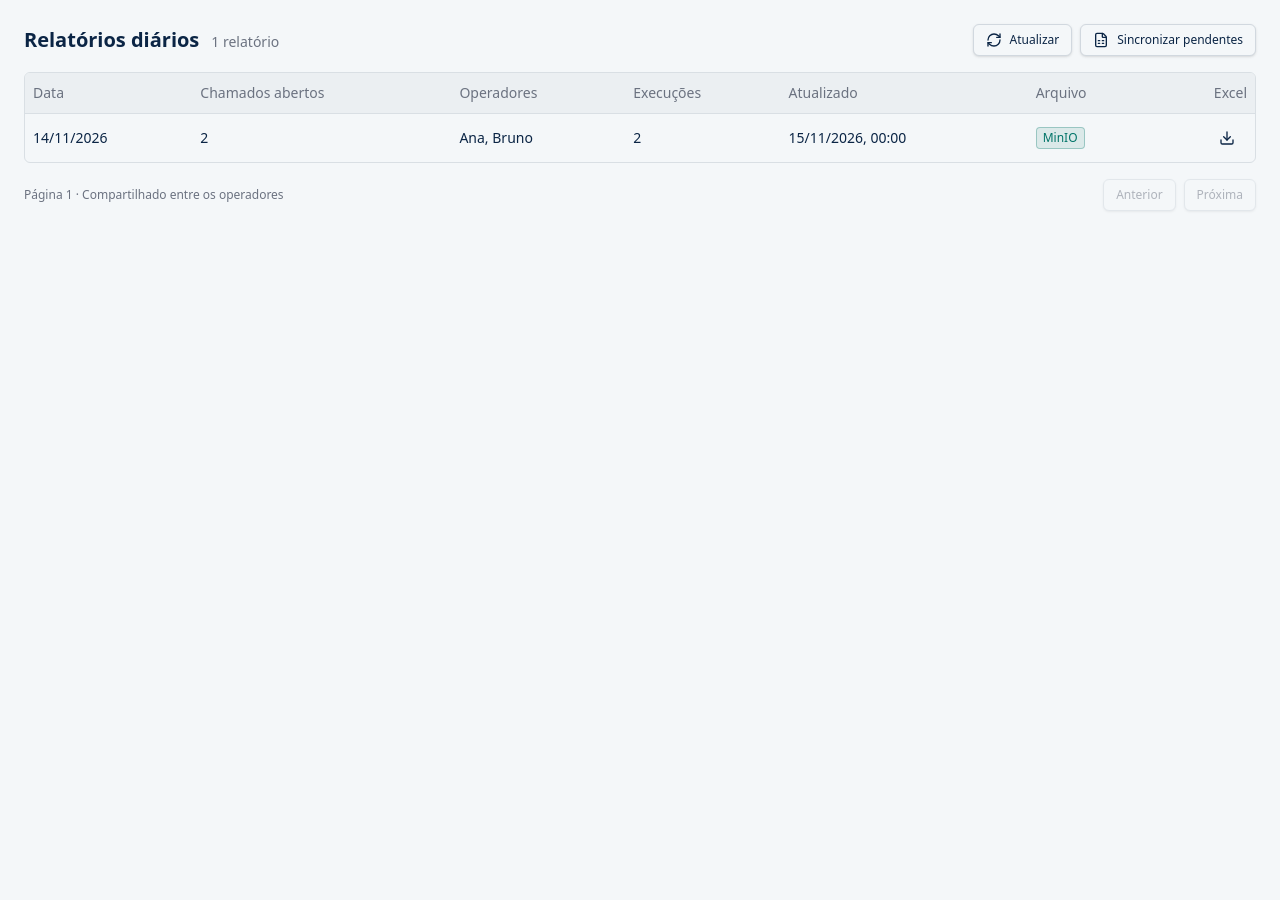
Test: Daily execution reports › searches routes without accents, clears an empty search and opens the correct ticket
Later steps or results of the test are not shown.
Click the text "14/11/2026".
click(109, 137)  # box [25, 113, 192, 162]
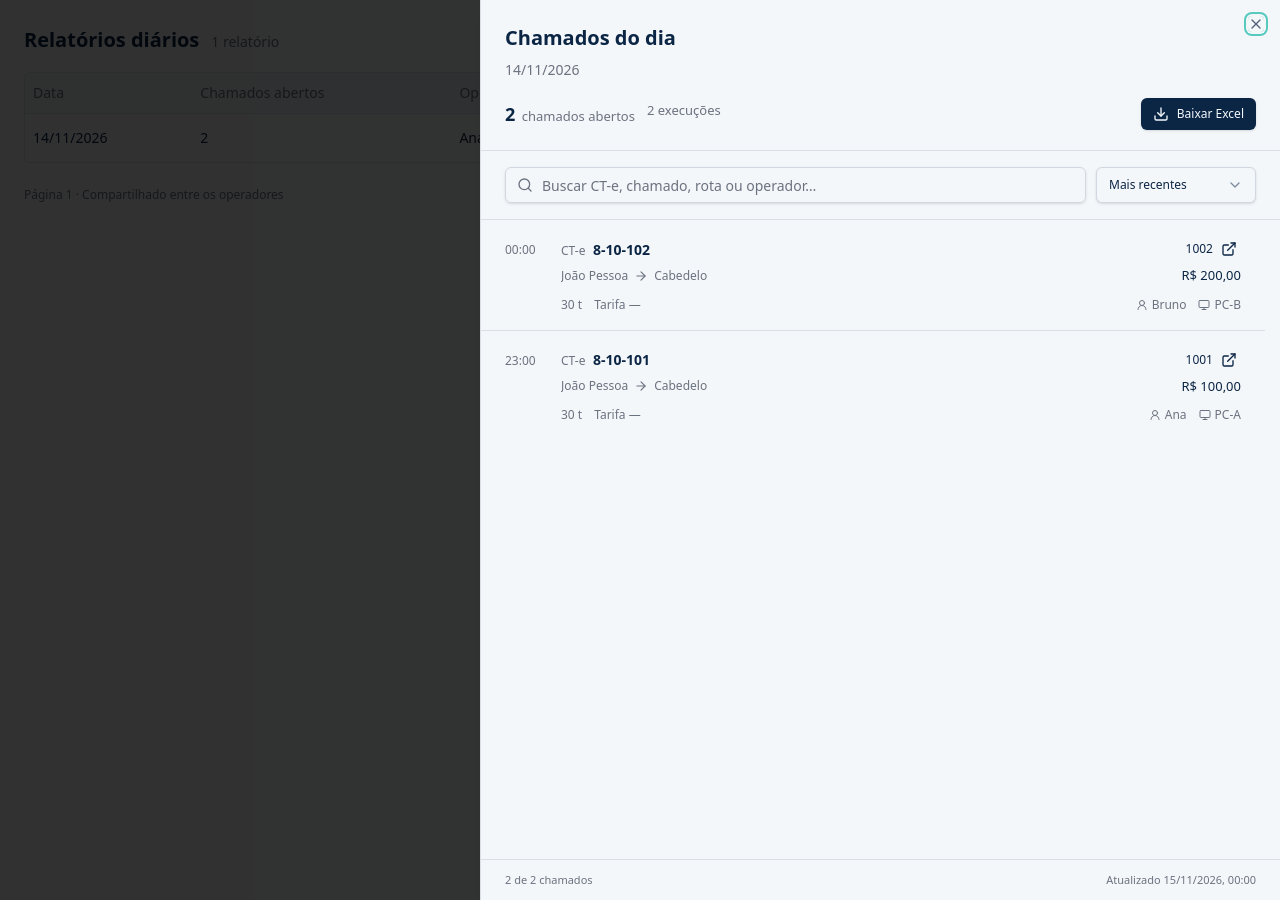
Expected: the element "CT-e 8-10-101" is shown, [481, 330, 1265, 440]
Type "joao pessoa" into the field named "Buscar chamados do dia".
click(796, 185); type("joao pessoa")  # box [505, 167, 1086, 203]
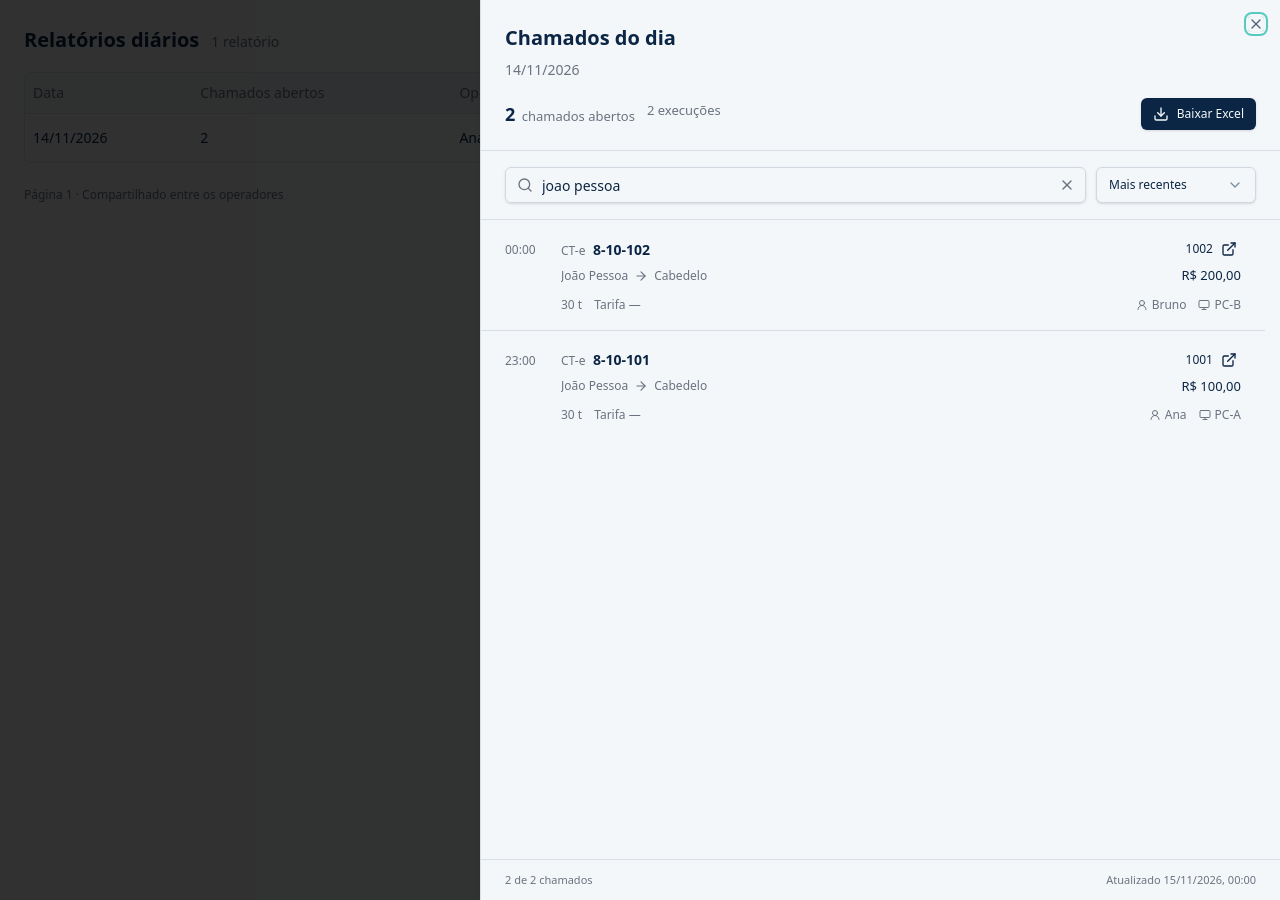
Replace the text in the field named "Buscar chamados do dia" with "nenhum" at (796, 185), box [505, 167, 1086, 203]
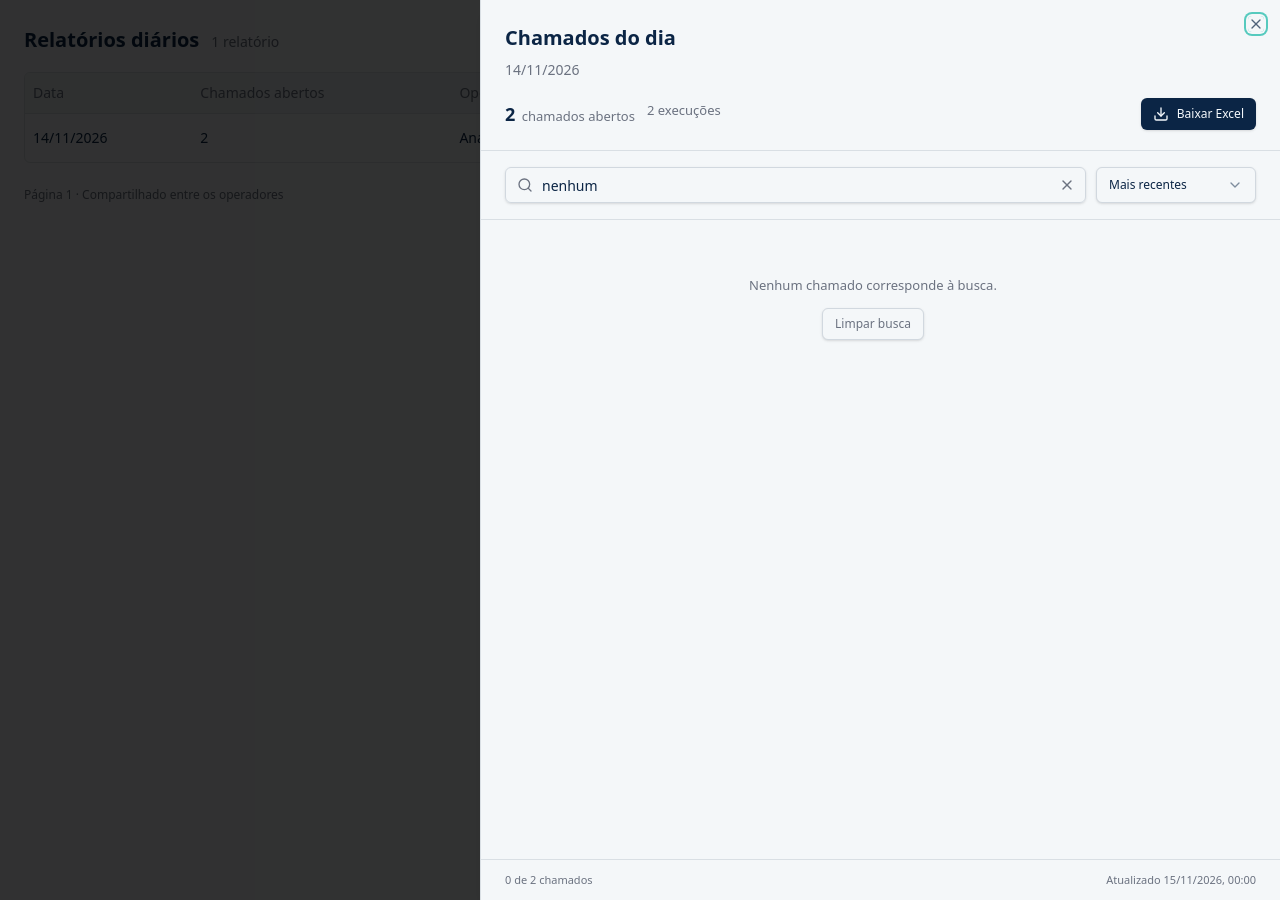
Expected: the text "Nenhum chamado corresponde à busca." is shown, [749, 276, 997, 296]
